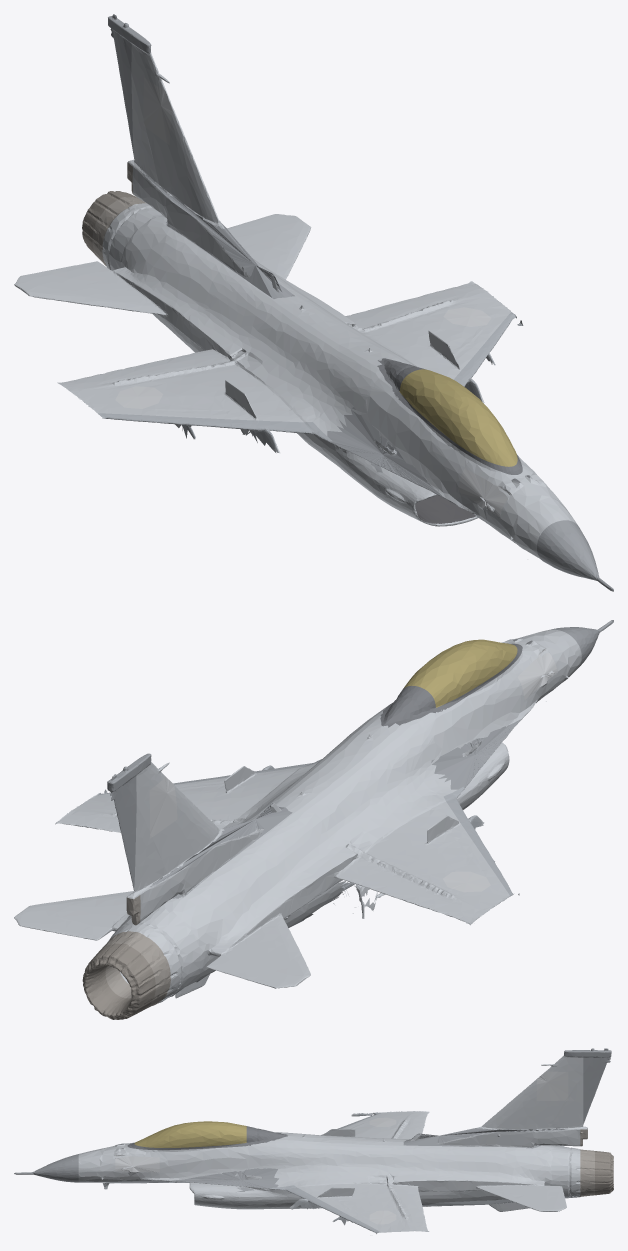
3 renders of one model, top to bottom at view 1: azimuth 30°, elevation 25°; view 2: azimuth 150°, elevation 25°; view 3: azimuth 270°, elevation 25°, orthographic. The views are drawn at different scales.
Parts seen in each view (by area): view 1: F16_zoned; view 2: F16_zoned; view 3: F16_zoned.
Part boxes in pixels (x1,y1,x2,y2): F16_zoned: (14,14,613,591); F16_zoned: (14,620,613,1019); F16_zoned: (14,1048,613,1233).
Bounding box in the file's own units: 0.9023 × 0.5701 × 1.89.
